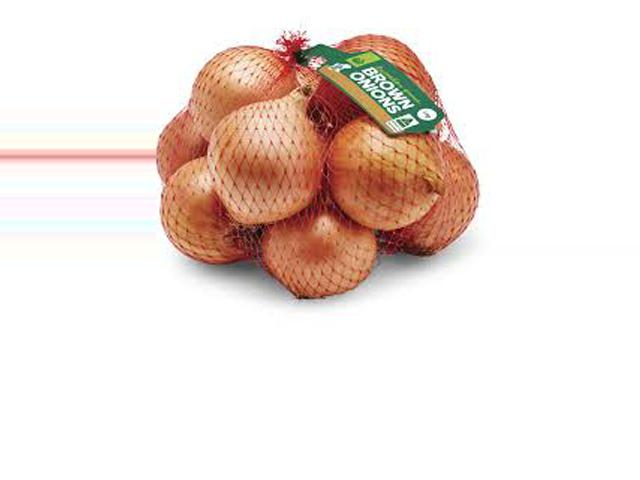onion: (375, 151, 486, 256)
